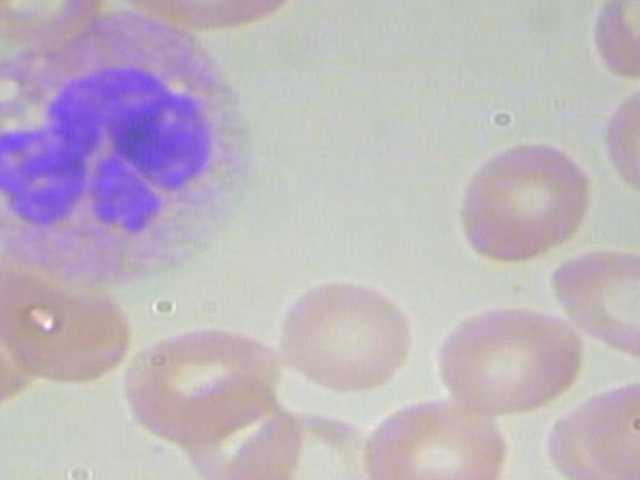RBC: (435, 130, 600, 270), (413, 299, 591, 427), (95, 320, 287, 437), (273, 263, 412, 400), (547, 244, 640, 368), (106, 0, 321, 42), (587, 70, 640, 213), (553, 0, 640, 86), (576, 380, 640, 480)
WBC: (0, 0, 273, 295)
